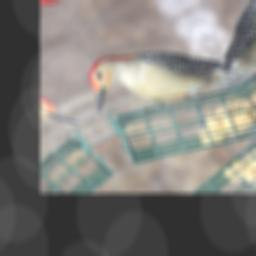Woodpecker: (71, 16, 239, 142)
